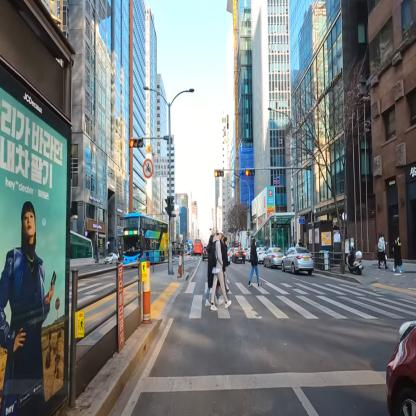red: (130, 138, 144, 147), (215, 169, 225, 178), (245, 169, 256, 176)
